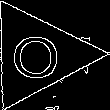O_N: (12, 28, 63, 80)
